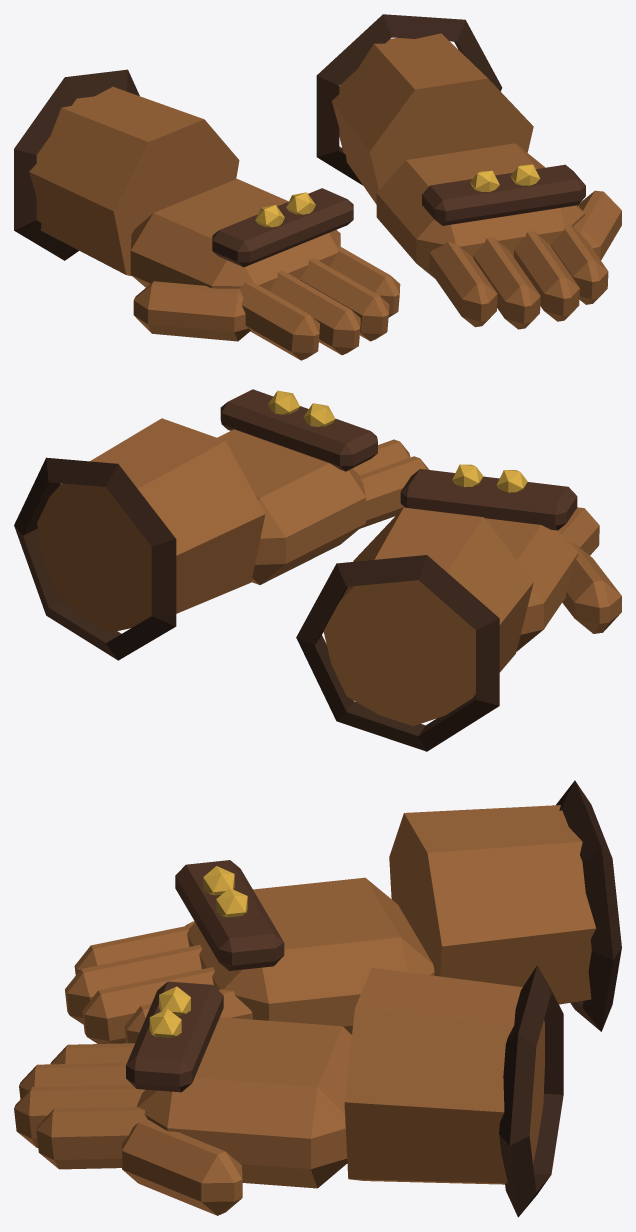
Rendered from Item_LeatherGloves.glb.
The picture shows the model from 3 angles, top to bottom: view 1: azimuth 30°, elevation 25°; view 2: azimuth 150°, elevation 25°; view 3: azimuth 270°, elevation 25°; orthographic projection. The views are drawn at different scales.
Visible parts, largest first — view 1: Item_LeatherGloves; view 2: Item_LeatherGloves; view 3: Item_LeatherGloves.
Boxes of the visible parts, x1,y1,x2,y2 form: Item_LeatherGloves: (14,14,621,360); Item_LeatherGloves: (14,389,621,751); Item_LeatherGloves: (14,780,621,1217).
Size of the model in its own units: 0.3034 by 0.1131 by 0.2713.
